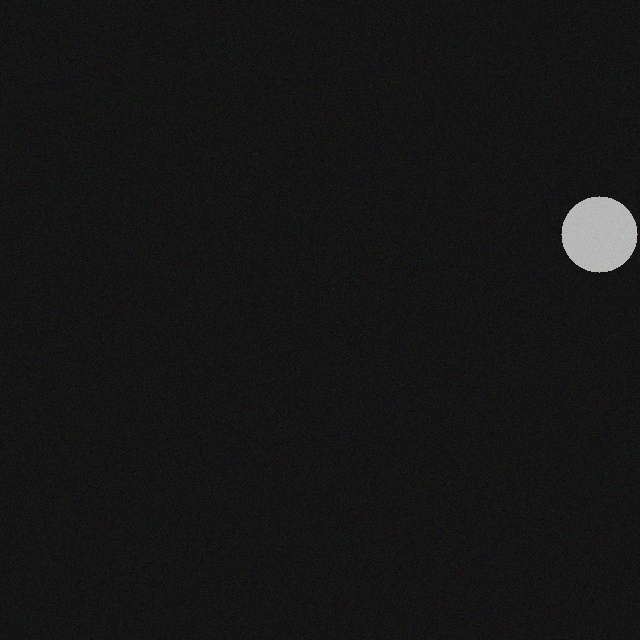circle: (550, 189, 626, 265)
